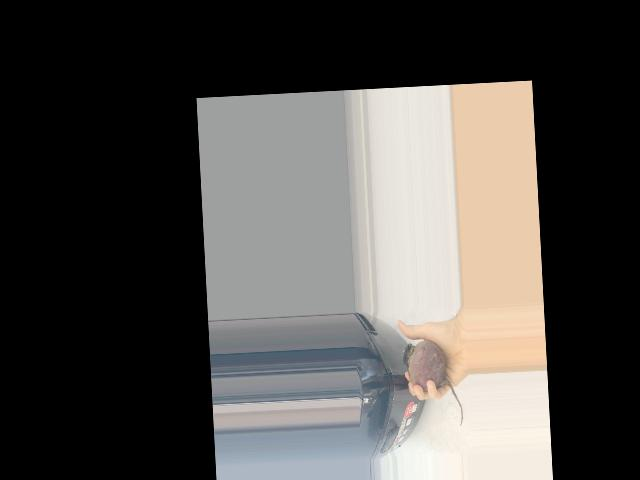beet: (402, 339, 464, 429)
